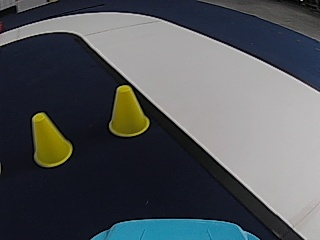cone: (30, 111, 73, 168), (108, 85, 149, 137)
